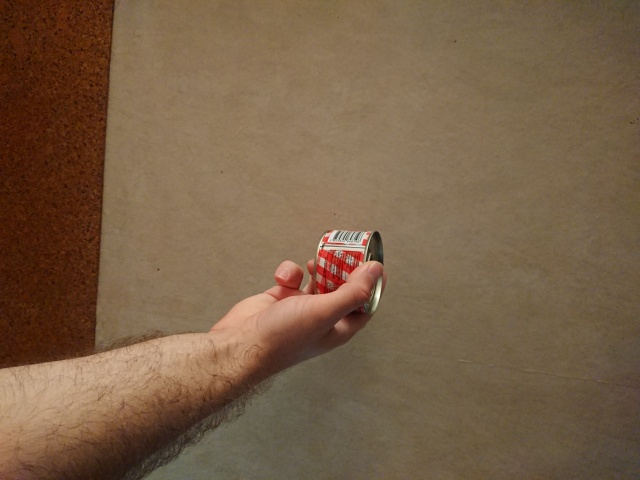Podravka Luncheon Meat 150g: (310, 227, 387, 323)
